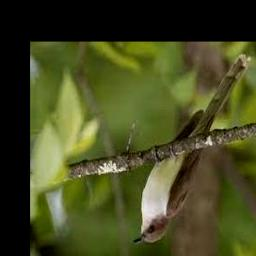Cuckoo: (132, 54, 251, 245)
